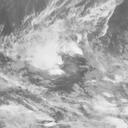cyclone: (17, 30, 67, 76)
